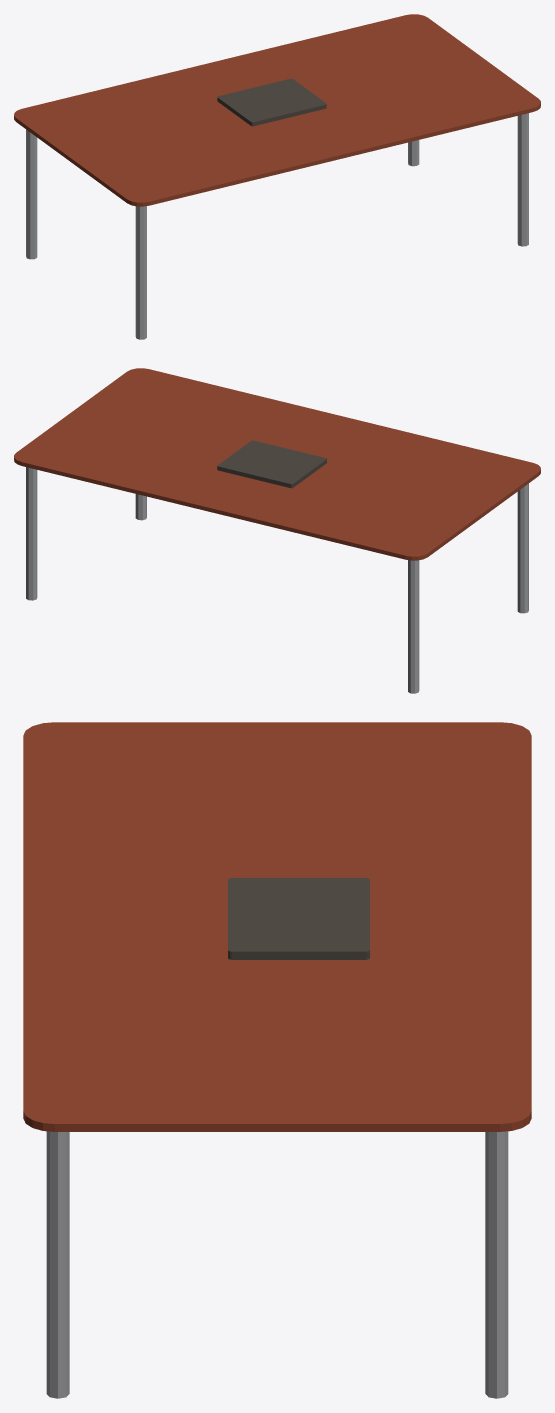
The model's file is room.gltf.
The picture shows the model from 3 angles, top to bottom: view 1: azimuth 30°, elevation 25°; view 2: azimuth 150°, elevation 25°; view 3: azimuth 270°, elevation 25°; orthographic projection. The views are drawn at different scales.
Parts seen in each view (by area): view 1: Desk, Laptop-top, Laptop-bottom; view 2: Desk, Laptop-top; view 3: Desk, Laptop-top, Laptop-bottom.
Part boxes in pixels (x1=…): Desk: x1=14, y1=14, x2=540, y2=339; Laptop-top: x1=217, y1=78, x2=326, y2=123; Laptop-bottom: x1=217, y1=98, x2=326, y2=126; Desk: x1=14, y1=368, x2=540, y2=693; Laptop-top: x1=217, y1=440, x2=326, y2=485; Desk: x1=23, y1=722, x2=531, y2=1398; Laptop-top: x1=228, y1=878, x2=369, y2=954; Laptop-bottom: x1=228, y1=953, x2=369, y2=959.
Size of the model in its own units: 2.18 by 0.7408 by 1.17.
